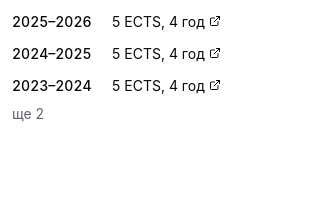
Scenario: CourseCazRecords › expands every row inline and collapses back
Click the button "ще 2" at (28, 114), box [12,104,44,124]
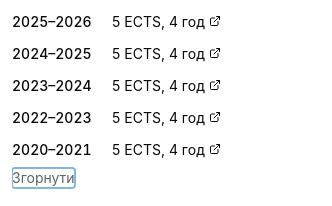
Result: the link with aria-label "2020–2021" is shown at [112,141,221,158]
Click the button "Згорнути" at (43, 178), box [12,168,75,188]
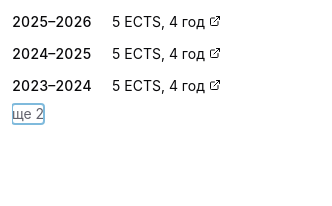
Result: the text "2020–2021" is gone
Result: the button "ще 2" is collapsed at [12,104,44,124]
